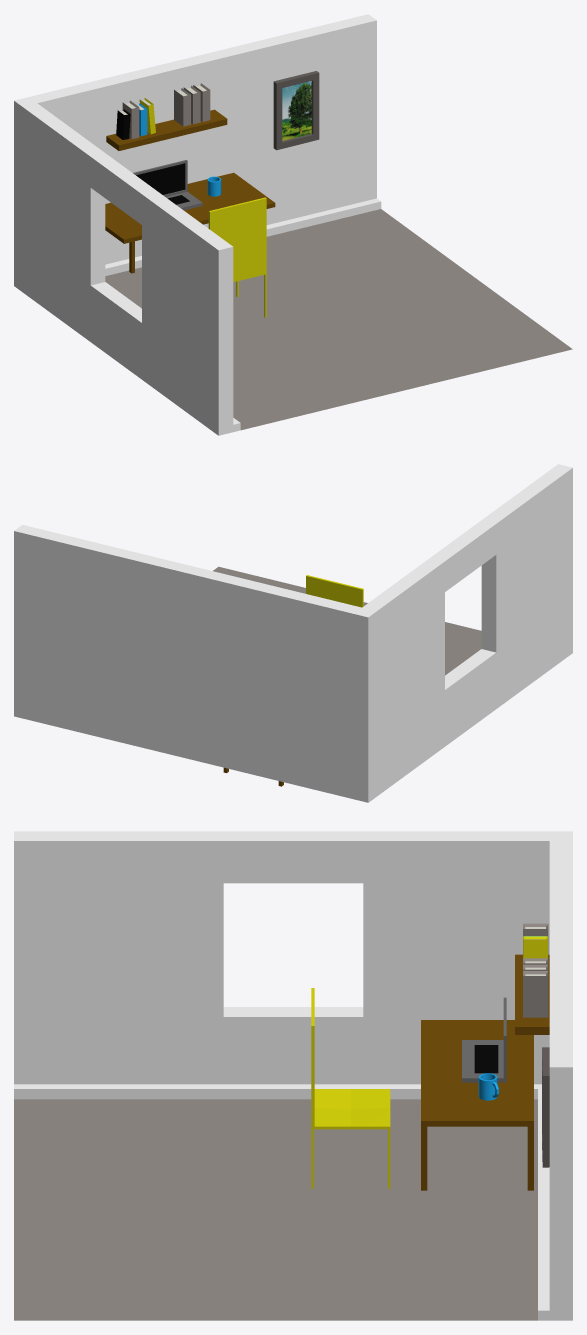
3 views of the same model, one above another, from view 1: azimuth 30°, elevation 25°; view 2: azimuth 150°, elevation 25°; view 3: azimuth 270°, elevation 25° (orthographic). The views are drawn at different scales.
Visible parts, largest first — view 1: Wall, Floor, Chair, PictureFrame, Table, Computer, Shelf, Book5; view 2: Wall, Floor, Chair; view 3: Wall, Floor, Table, Chair, Computer, Shelf, Book7, PictureFrame.
Part boxes in pixels (x1,y1,x2,y2): Wall: [14, 14, 381, 435]; Floor: [105, 209, 572, 430]; Chair: [208, 197, 266, 317]; PictureFrame: [273, 71, 319, 150]; Table: [105, 172, 275, 273]; Computer: [133, 160, 202, 210]; Shelf: [106, 109, 227, 150]; Book5: [174, 88, 190, 126]; Wall: [14, 464, 572, 802]; Floor: [213, 566, 481, 675]; Chair: [306, 575, 363, 607]; Wall: [14, 831, 572, 1320]; Floor: [14, 1099, 537, 1320]; Table: [421, 1020, 533, 1190]; Chair: [311, 988, 390, 1188]; Computer: [462, 997, 506, 1082]; Shelf: [515, 954, 549, 1034]; Book7: [523, 971, 548, 1017]; PictureFrame: [542, 1047, 549, 1167].
Size of the model in its own units: 24 by 13.22 by 24.
Materials: 11 (1 with a texture image).
